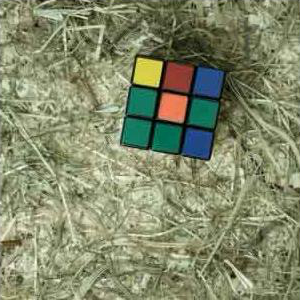rubik: (119, 55, 227, 162)
